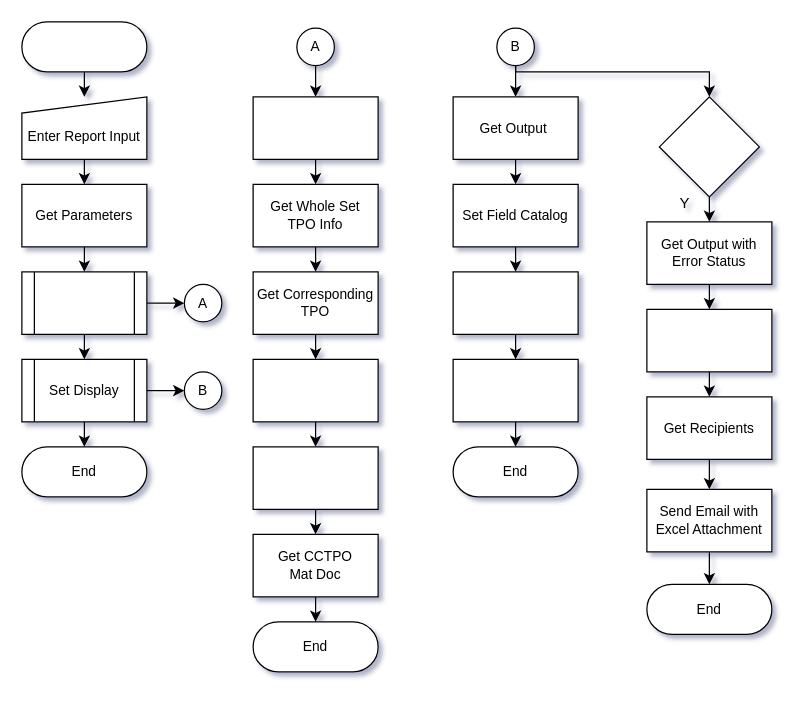
This 801x701 diagram has some shape labels left out. Here are the shapes that lost their labels. From the top down, the centre of each, then its label:
point 84,46: Start
point 315,127: Get Mat Doc Info
point 708,146: Send Email?
point 84,302: Get Material Document
point 515,302: Set Layout
point 709,340: Set Column Headers
point 315,390: Post Whole Set Mat Doc
point 515,390: Display ALV
point 315,477: Create DN for TPO
